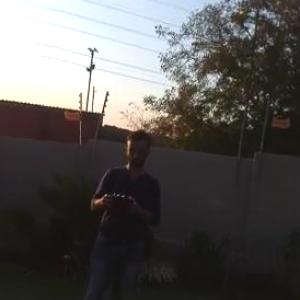follow: (83, 126, 168, 299)
